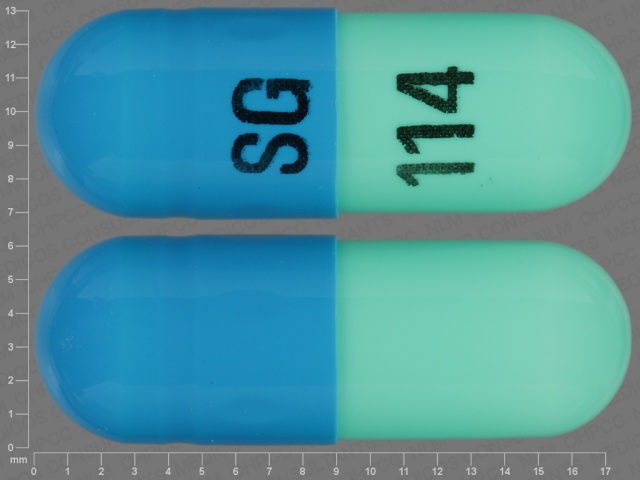1: (395, 120, 479, 159), (394, 156, 481, 192)
4: (393, 64, 480, 115)
G: (227, 72, 316, 130)
S: (230, 129, 314, 179)
capsule: (33, 5, 634, 223), (36, 230, 636, 448)
